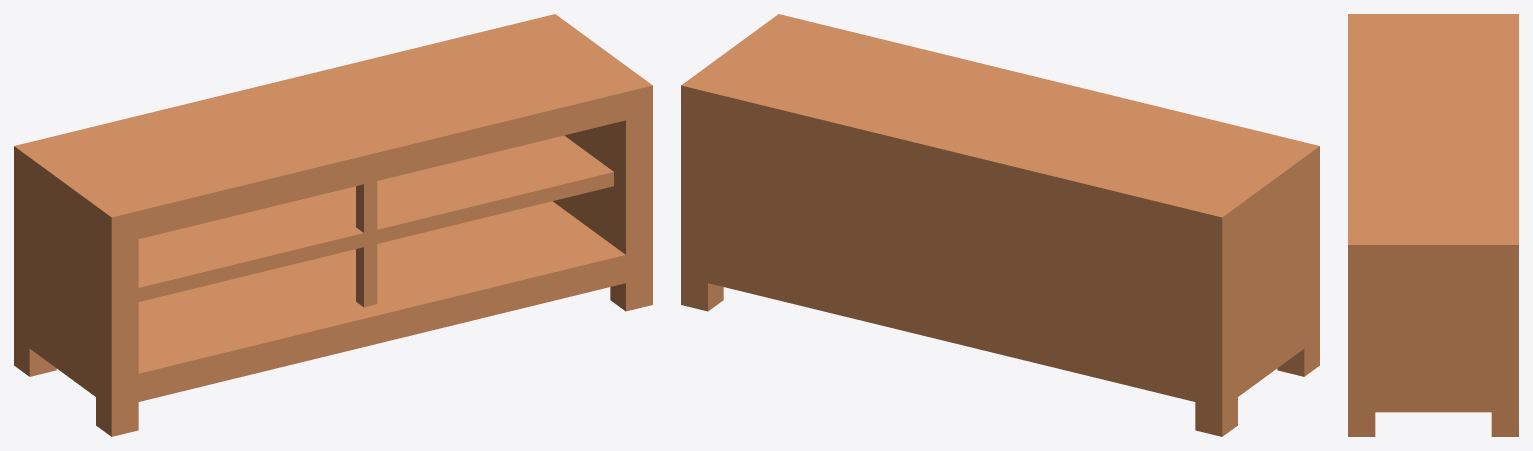
Rendered from Cabinet Television.glb.
3 renders of one model, left to right at view 1: azimuth 30°, elevation 25°; view 2: azimuth 150°, elevation 25°; view 3: azimuth 270°, elevation 25°, orthographic. The views are drawn at different scales.
Visible parts, largest first — view 1: cabinetTelevision(Clone); view 2: cabinetTelevision(Clone); view 3: cabinetTelevision(Clone).
Boxes of the visible parts, x1,y1,x2,y2 form: cabinetTelevision(Clone): (14,14,652,436); cabinetTelevision(Clone): (681,14,1319,436); cabinetTelevision(Clone): (1348,14,1518,436).
Size of the model in its own units: 0.8 by 0.31 by 0.25.
